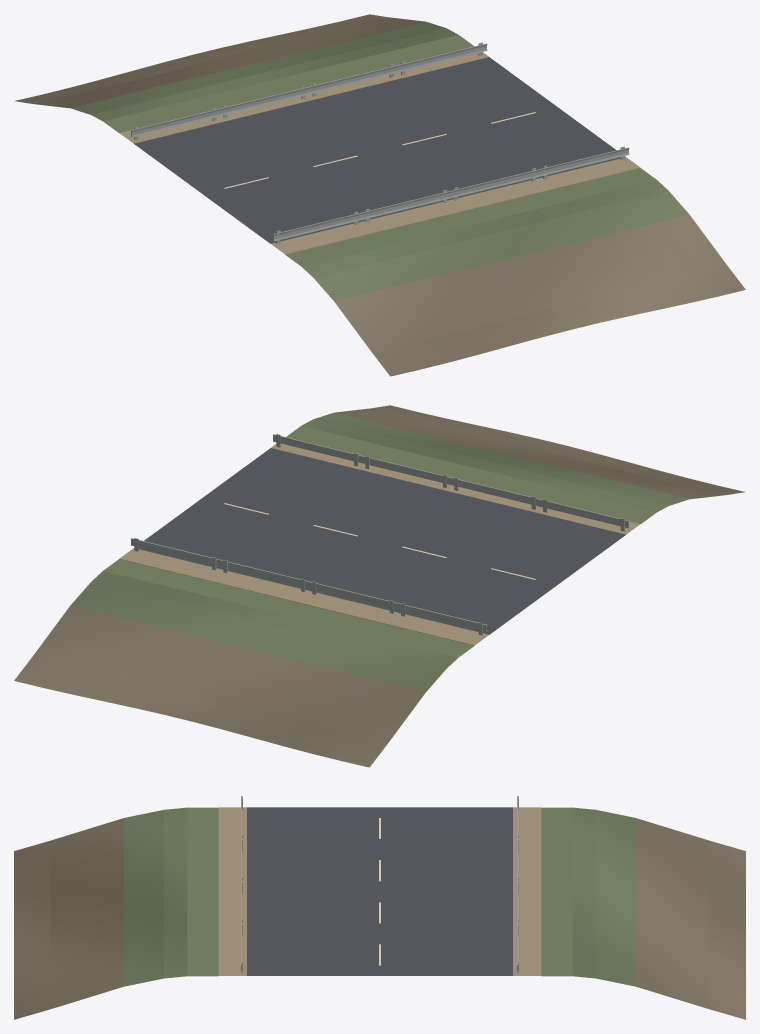
Rendered from road.glb.
The picture shows the model from 3 angles, top to bottom: view 1: azimuth 30°, elevation 25°; view 2: azimuth 150°, elevation 25°; view 3: azimuth 270°, elevation 25°; orthographic projection. The views are drawn at different scales.
Visible parts, largest first — view 1: road-and-graded-shoulder, rail--1-3, rail-1-3, rail--1--9, rail-1--9, rail--1-9, rail-1-9, rail--1--3, rail-1--3; view 2: road-and-graded-shoulder, rail--1--9, rail-1--9, rail-1--3, rail--1--3, rail--1-9, rail-1-9, rail--1-3, rail-1-3; view 3: road-and-graded-shoulder.
Boxes of the visible parts, x1,y1,x2,y2 form: road-and-graded-shoulder: [14, 14, 745, 376]; rail--1-3: [309, 64, 398, 96]; rail-1-3: [451, 168, 540, 200]; rail--1--9: [131, 107, 220, 139]; rail-1--9: [273, 211, 362, 243]; rail--1-9: [398, 42, 487, 74]; rail-1-9: [540, 146, 629, 178]; rail--1--3: [220, 86, 309, 118]; rail-1--3: [362, 190, 451, 222]; road-and-graded-shoulder: [14, 405, 745, 767]; rail--1--9: [397, 603, 487, 635]; rail-1--9: [539, 499, 629, 531]; rail-1--3: [451, 477, 539, 509]; rail--1--3: [309, 581, 397, 613]; rail--1-9: [131, 538, 220, 570]; rail-1-9: [273, 434, 362, 466]; rail--1-3: [220, 559, 309, 591]; rail-1-3: [362, 456, 450, 487]; road-and-graded-shoulder: [14, 807, 745, 1019].
Size of the model in its own units: 24 by 3.77 by 44.
